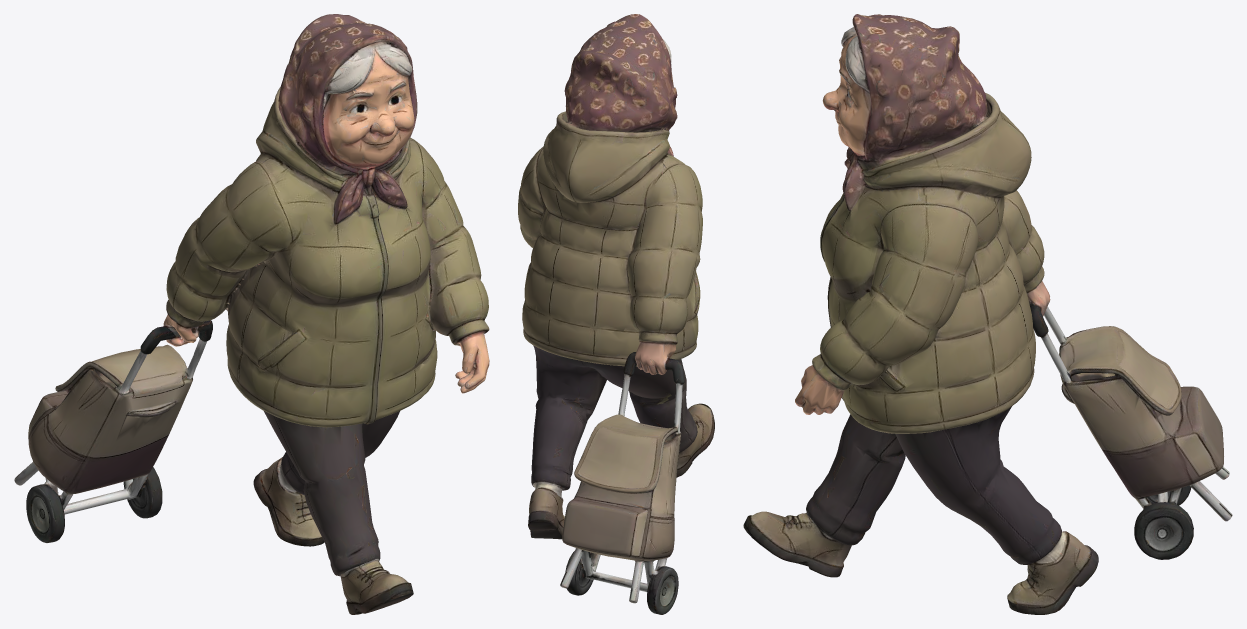
File: getkong-ped6.glb
The picture shows the model from 3 angles, left to right: view 1: azimuth 30°, elevation 25°; view 2: azimuth 150°, elevation 25°; view 3: azimuth 270°, elevation 25°; orthographic projection. The views are drawn at different scales.
Parts seen in each view (by area): view 1: Mesh_0; view 2: Mesh_0; view 3: Mesh_0.
Part boxes in pixels (bbox=[...]): Mesh_0: bbox=[14, 14, 489, 614]; Mesh_0: bbox=[518, 14, 714, 614]; Mesh_0: bbox=[743, 14, 1232, 614].
Bounding box in the file's own units: 1.06 × 1.9 × 1.45.
1 material, 1 textured.
